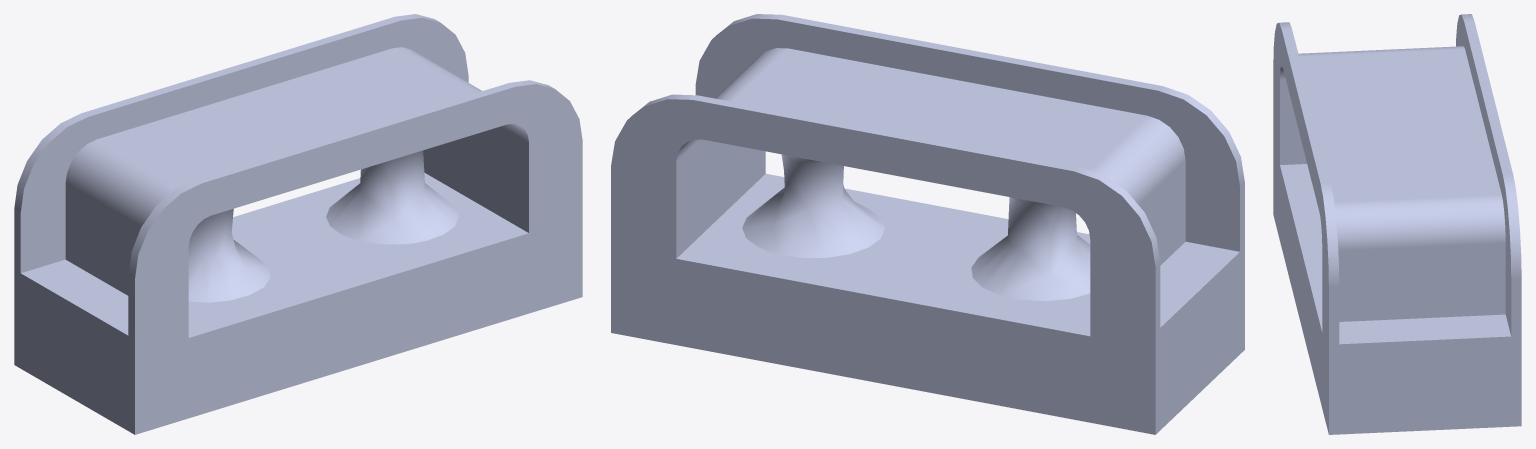
3 renders of one model, left to right at view 1: azimuth 30°, elevation 25°; view 2: azimuth 150°, elevation 25°; view 3: azimuth 270°, elevation 25°, orthographic. The views are drawn at different scales.
Visible parts, largest first — view 1: NAUO56, NAUO59, NAUO58; view 2: NAUO56, NAUO57, NAUO58; view 3: NAUO56, NAUO60, NAUO59.
Part boxes in pixels (bbox=[...]): NAUO56: bbox=[14, 14, 582, 359]; NAUO59: bbox=[139, 223, 578, 433]; NAUO58: bbox=[14, 290, 139, 434]; NAUO56: bbox=[611, 14, 1244, 353]; NAUO57: bbox=[616, 253, 1150, 433]; NAUO58: bbox=[1150, 269, 1244, 434]; NAUO56: bbox=[1273, 14, 1521, 363]; NAUO60: bbox=[1328, 355, 1521, 434]; NAUO59: bbox=[1274, 147, 1328, 431].
Bounding box in the file's own units: 1.03 × 0.46 × 0.474.
